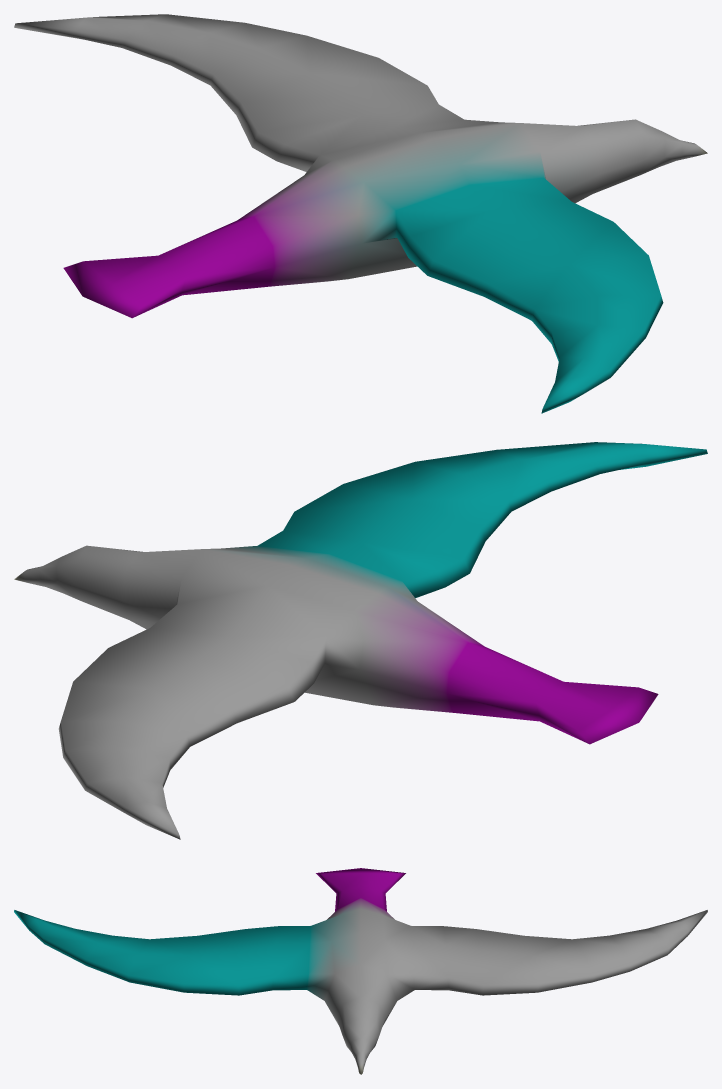
Rendered from SM_Bird.gltf.
The picture shows the model from 3 angles, top to bottom: view 1: azimuth 30°, elevation 25°; view 2: azimuth 150°, elevation 25°; view 3: azimuth 270°, elevation 25°; orthographic projection. The views are drawn at different scales.
Visible parts, largest first — view 1: SM_Bird; view 2: SM_Bird; view 3: SM_Bird.
Part boxes in pixels (x1,y1,x2,y2): SM_Bird: [14, 14, 707, 413]; SM_Bird: [14, 442, 707, 839]; SM_Bird: [14, 868, 707, 1074].
Bounding box in the file's own units: 0.4334 × 0.081 × 0.633.
